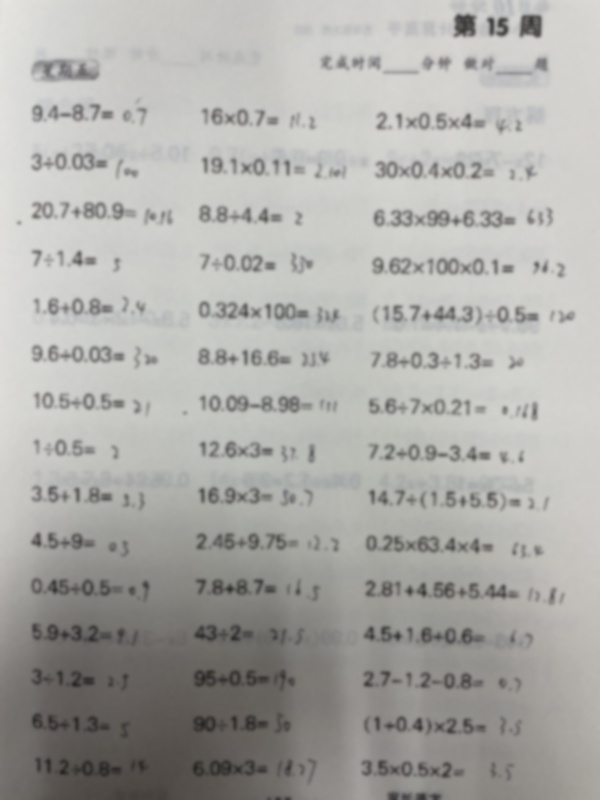equation: (368, 298, 583, 334), (361, 576, 571, 612), (365, 482, 549, 519), (367, 253, 570, 286), (368, 201, 559, 236), (361, 531, 544, 563), (360, 623, 537, 655), (358, 711, 524, 744), (360, 668, 525, 701), (364, 394, 543, 424), (372, 157, 538, 188), (25, 197, 175, 230), (192, 527, 342, 559), (358, 758, 514, 787), (365, 347, 525, 375), (194, 572, 324, 606), (28, 93, 150, 129), (27, 617, 139, 656), (194, 471, 315, 507), (187, 754, 319, 787), (30, 574, 152, 609), (26, 529, 134, 566), (371, 108, 524, 134), (363, 440, 526, 464), (191, 620, 306, 654), (27, 341, 160, 370), (194, 297, 342, 323), (197, 154, 348, 179), (195, 250, 314, 280), (35, 752, 149, 783), (195, 391, 340, 415), (27, 148, 141, 178), (192, 665, 297, 697), (193, 344, 332, 368), (29, 665, 131, 697), (27, 482, 147, 509), (28, 388, 152, 414), (194, 437, 317, 463), (29, 710, 131, 741), (28, 291, 147, 317), (29, 435, 124, 467), (196, 105, 318, 129), (29, 246, 124, 276), (192, 714, 292, 741), (194, 202, 304, 226)
